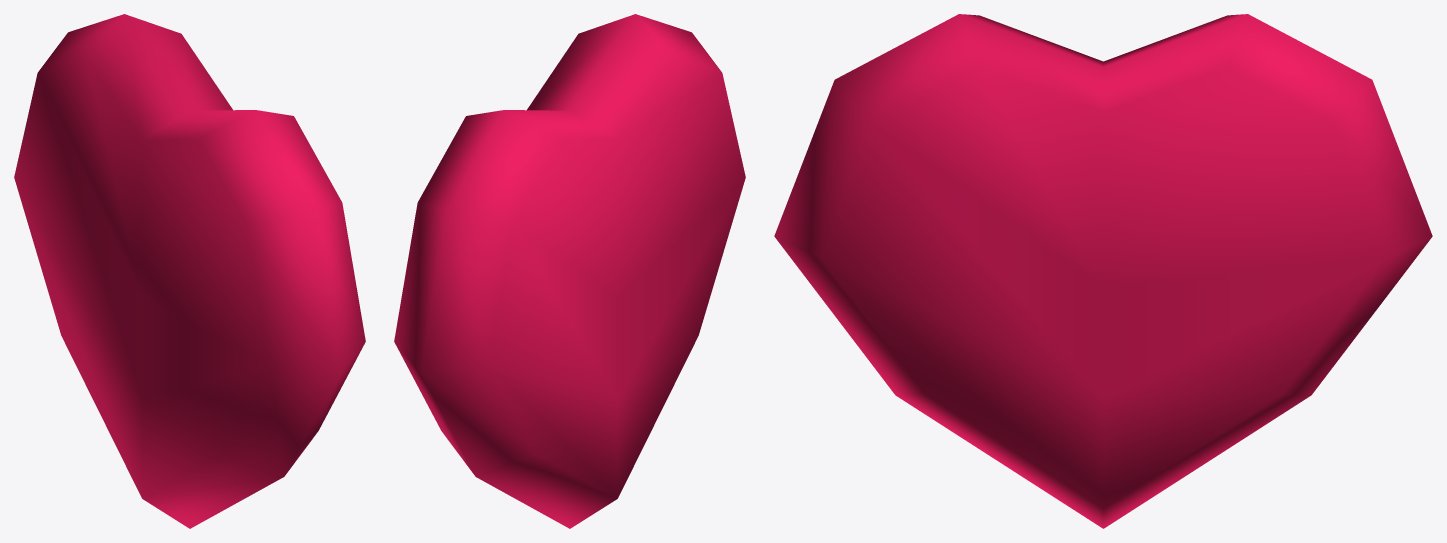
Rendered from Heart.fbx.
3 renders of one model, left to right at view 1: azimuth 30°, elevation 25°; view 2: azimuth 150°, elevation 25°; view 3: azimuth 270°, elevation 25°, orthographic. The views are drawn at different scales.
Visible parts, largest first — view 1: Cube; view 2: Cube; view 3: Cube.
Boxes of the visible parts, bbox=[...] form: Cube: bbox=[14, 14, 365, 528]; Cube: bbox=[394, 14, 745, 528]; Cube: bbox=[774, 14, 1432, 528].
Size of the model in its own units: 24.63 by 115 by 133.
